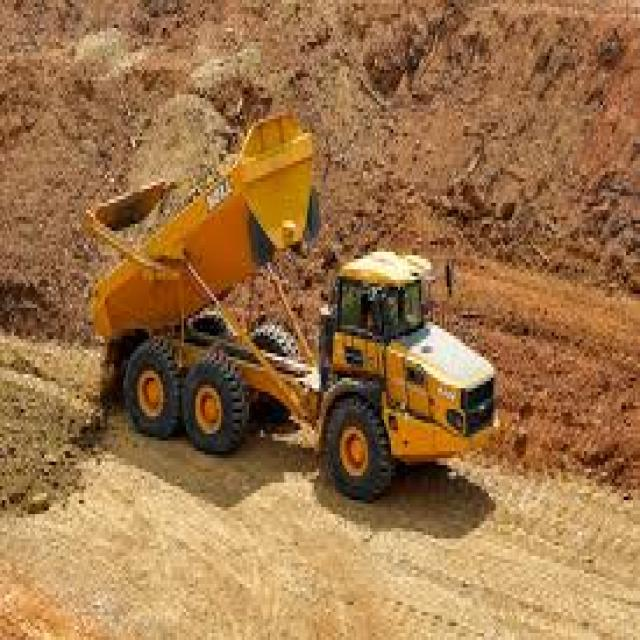dump_truck: (79, 112, 507, 528)
